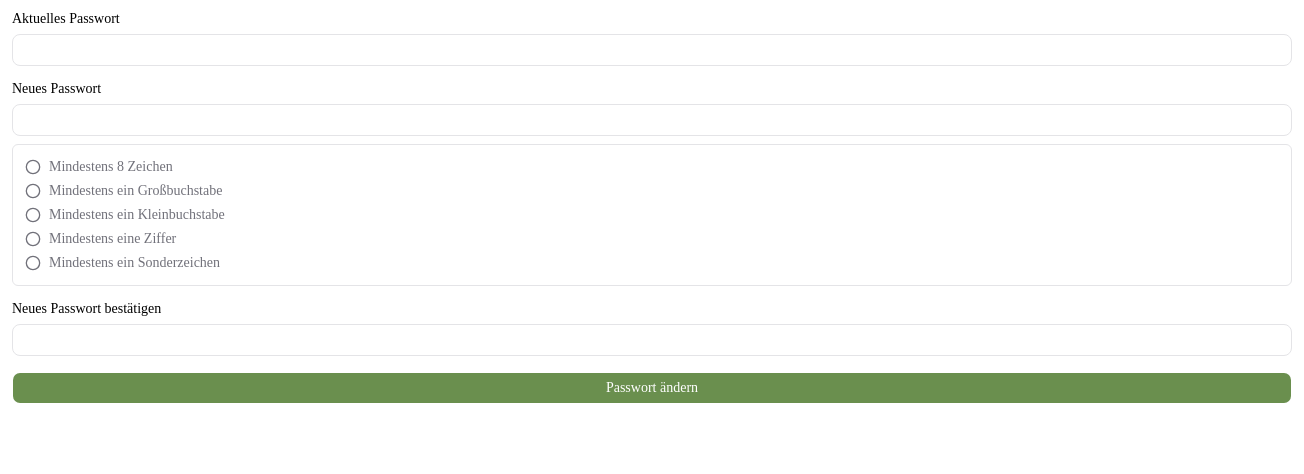
Scenario: ChangePasswordForm › rules-not-satisfied renders the generic destructive Alert
Type "OldSecret1!" into the password field labelled "Aktuelles Passwort" at (652, 50), box [12,34,1292,66]
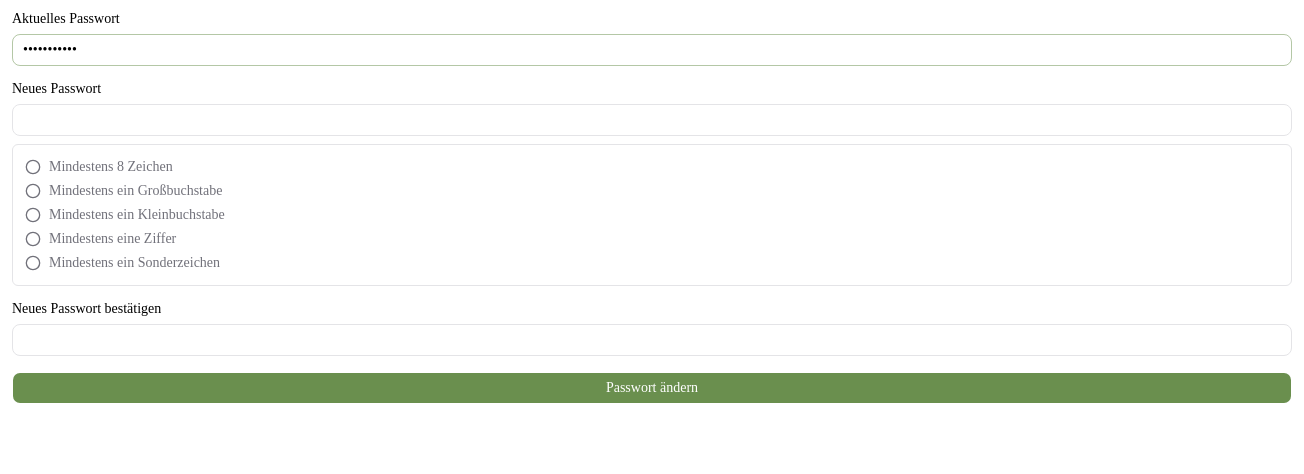
Type "Abc12345!" into the password field labelled "Neues Passwort" at (652, 120), box [12,104,1292,136]
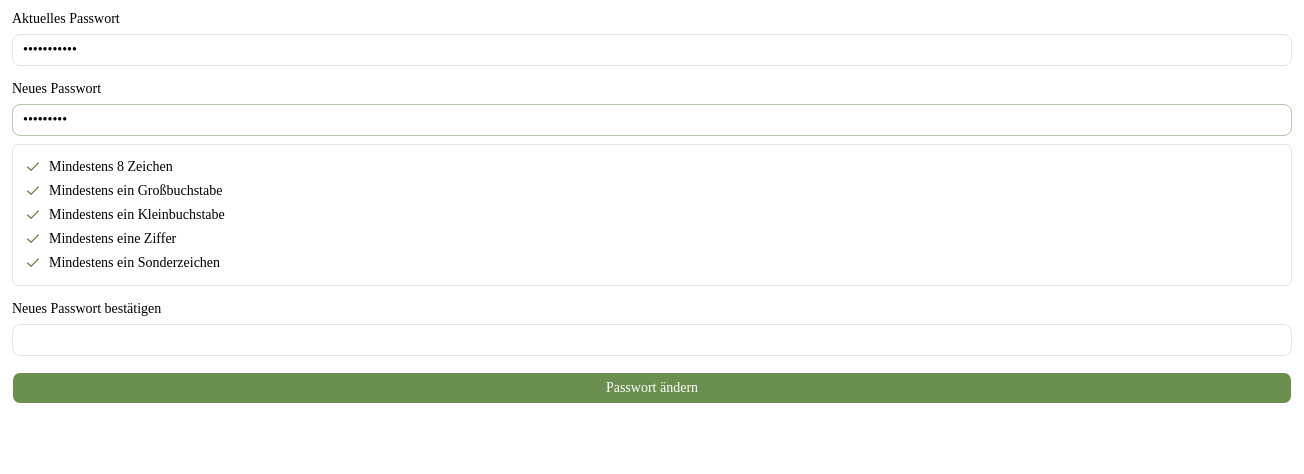
Type "Abc12345!" into the password field labelled "Neues Passwort bestätigen" at (652, 340), box [12,324,1292,356]
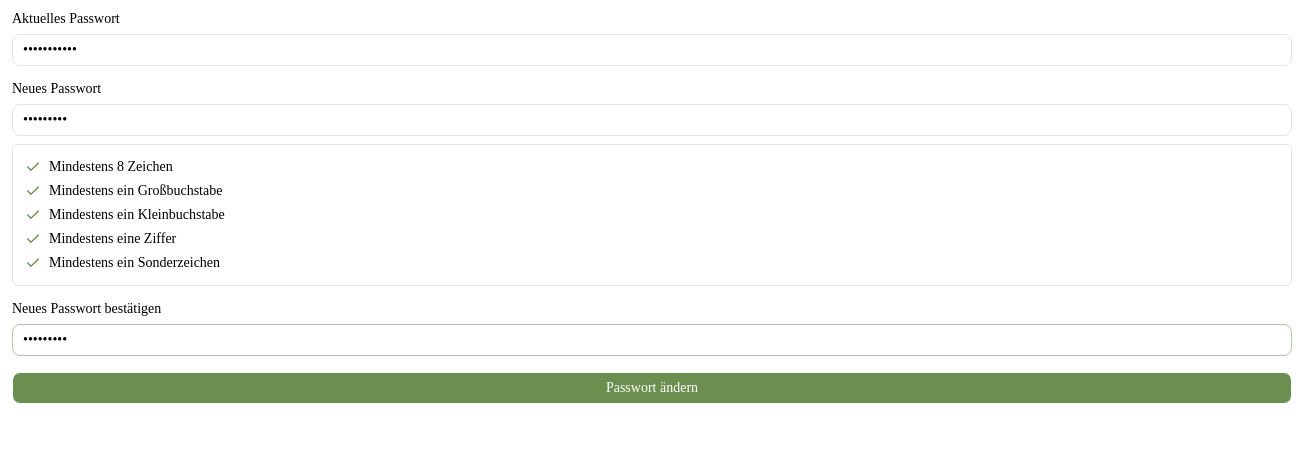
Click the button "Passwort ändern" at (652, 388), box [12,372,1292,404]
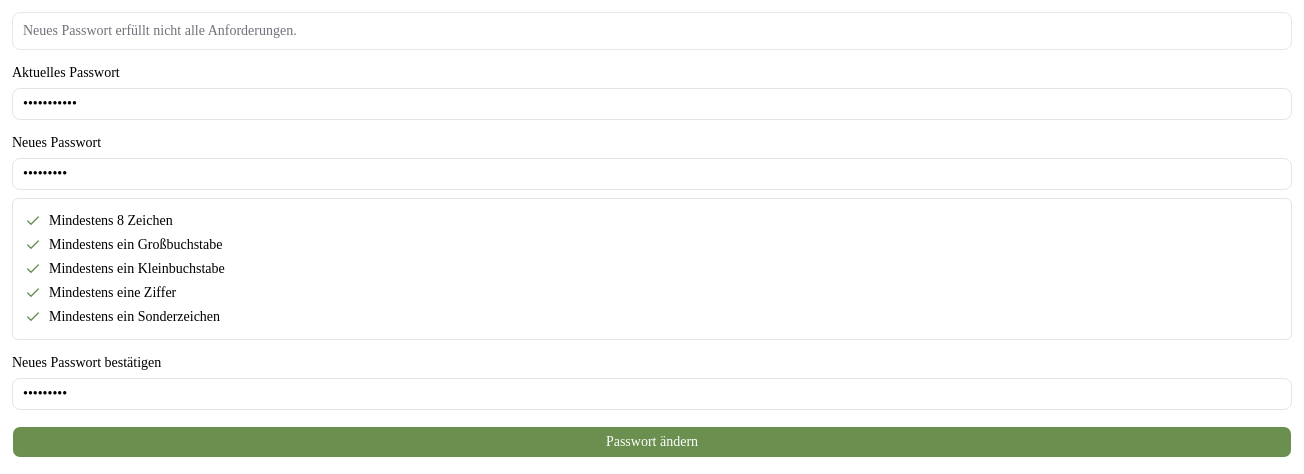
Now the text "Neues Passwort erfüllt nicht alle Anforderungen." is shown, box [23,23,297,38]
